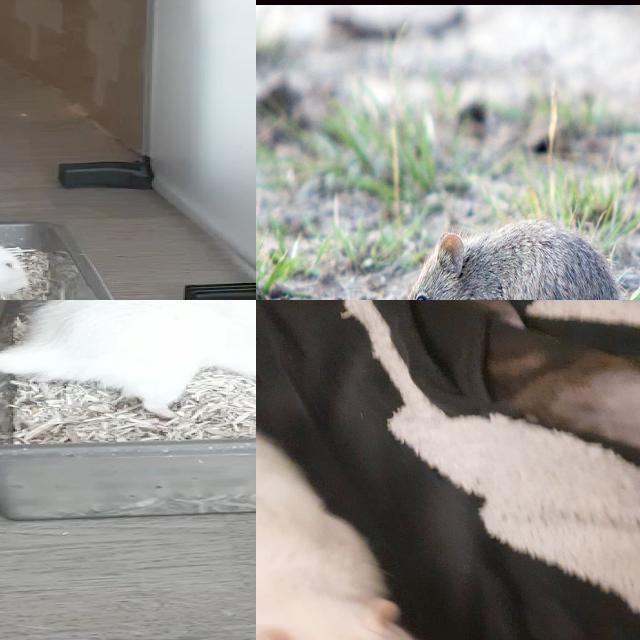rat: (256, 399, 434, 640), (37, 300, 256, 421), (392, 230, 620, 300)
